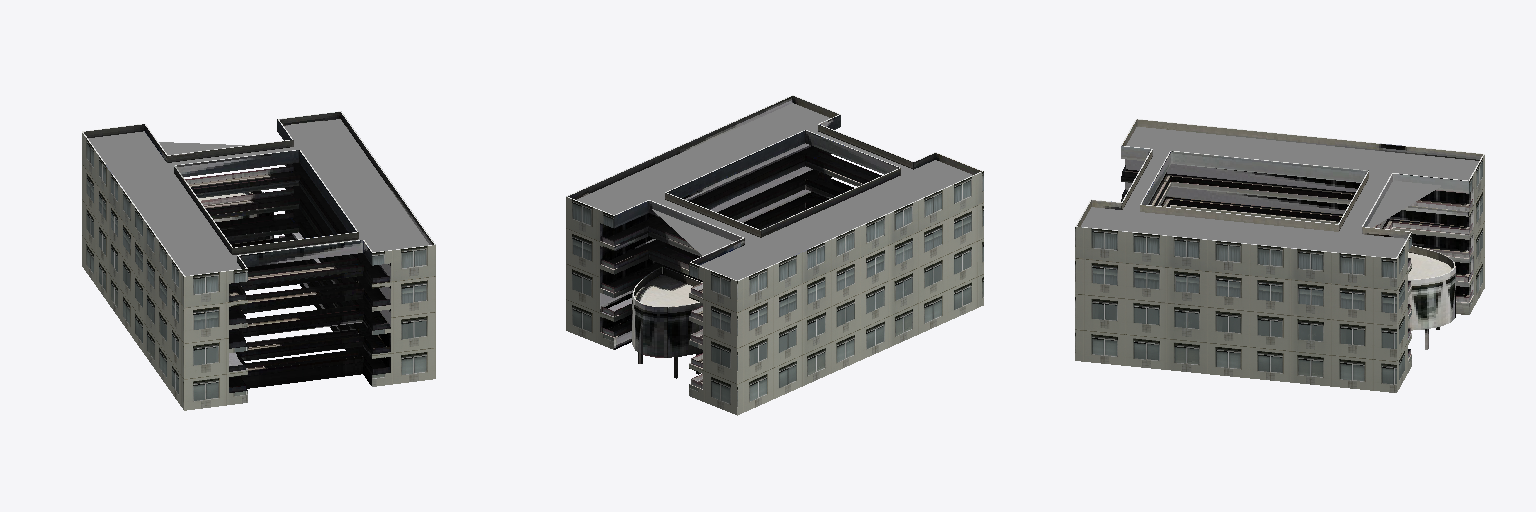
3 renders of one model, left to right at view 1: azimuth 30°, elevation 25°; view 2: azimuth 150°, elevation 25°; view 3: azimuth 270°, elevation 25°, orthographic.
Parts seen in each view (by area): view 1: JZ_JX_623; view 2: JZ_JX_623; view 3: JZ_JX_623.
Part boxes in pixels (x1,y1,x2,y2): JZ_JX_623: (82,111,435,410); JZ_JX_623: (566,95,983,415); JZ_JX_623: (1075,119,1484,392).
Bounding box in the file's own units: 2019 × 899 × 2491.
3 materials, 2 textured.